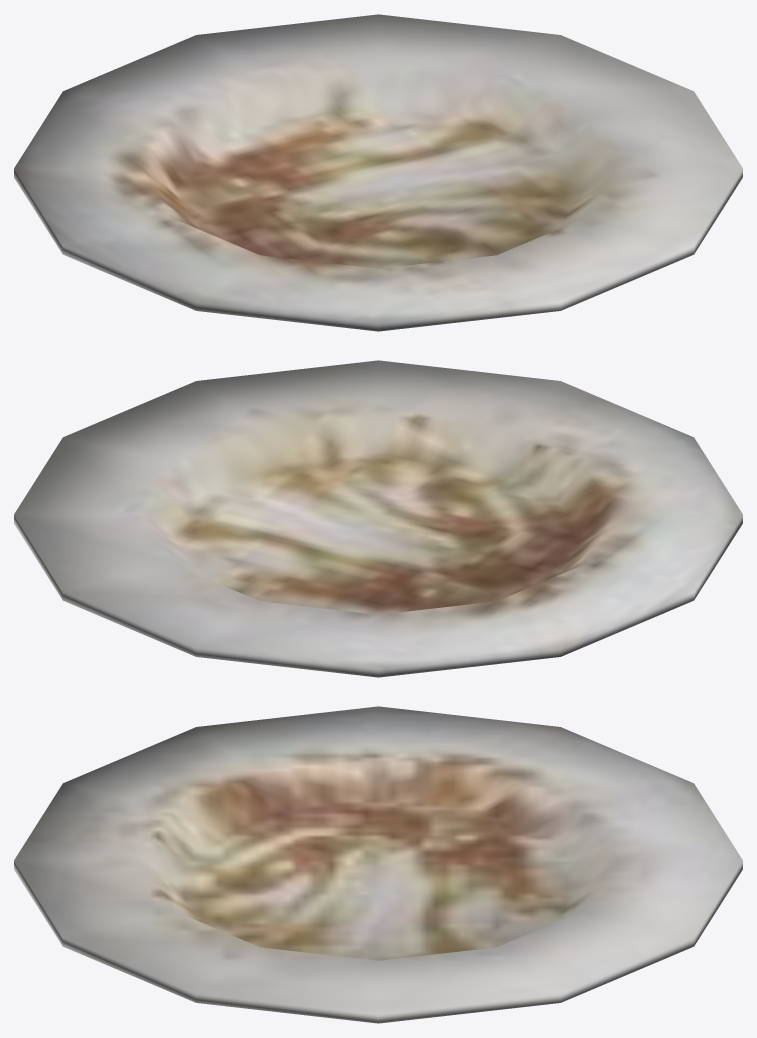
File: plate_1.FBX
The picture shows the model from 3 angles, top to bottom: view 1: azimuth 30°, elevation 25°; view 2: azimuth 150°, elevation 25°; view 3: azimuth 270°, elevation 25°; orthographic projection.
Parts seen in each view (by area): view 1: plate_3; view 2: plate_3; view 3: plate_3.
Part boxes in pixels (bbox=[...]): plate_3: bbox=[14, 14, 742, 331]; plate_3: bbox=[14, 360, 742, 677]; plate_3: bbox=[14, 706, 742, 1023].
Bounding box in the file's own units: 13.86 × 0.6683 × 13.86.
